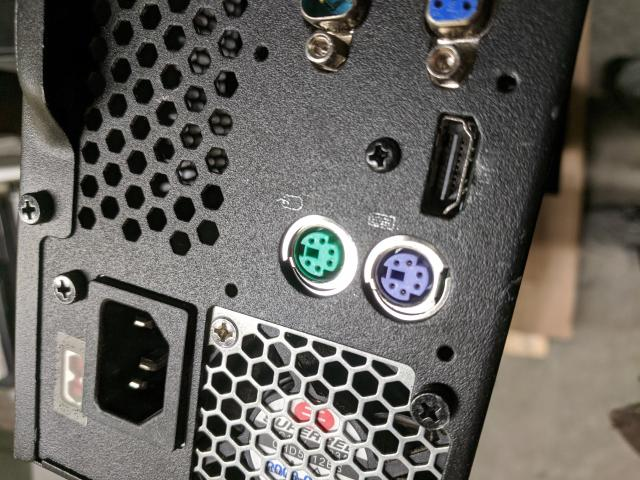CRS: (409, 389, 454, 433), (362, 135, 402, 178), (208, 316, 238, 346), (17, 192, 44, 225), (54, 274, 77, 305)
